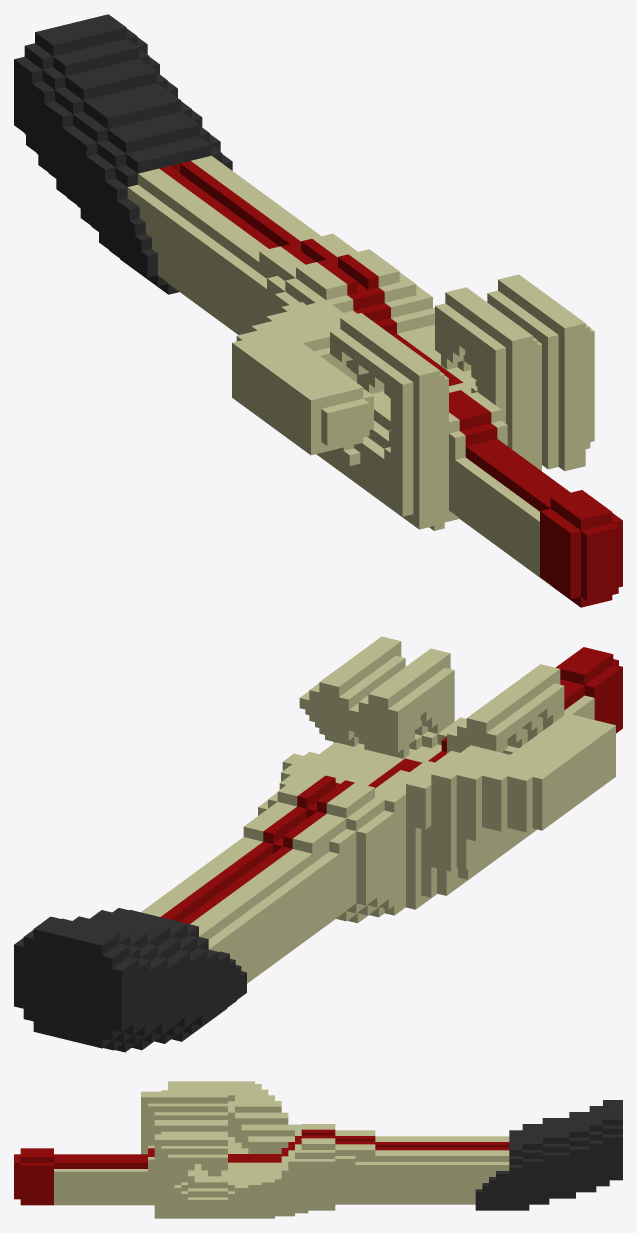
Rendered from Sniper.obj.
3 renders of one model, top to bottom at view 1: azimuth 30°, elevation 25°; view 2: azimuth 150°, elevation 25°; view 3: azimuth 270°, elevation 25°, orthographic. The views are drawn at different scales.
Size of the model in its own units: 2.7 by 1.6 by 9.1.
Materials: 1 (1 with a texture image).
